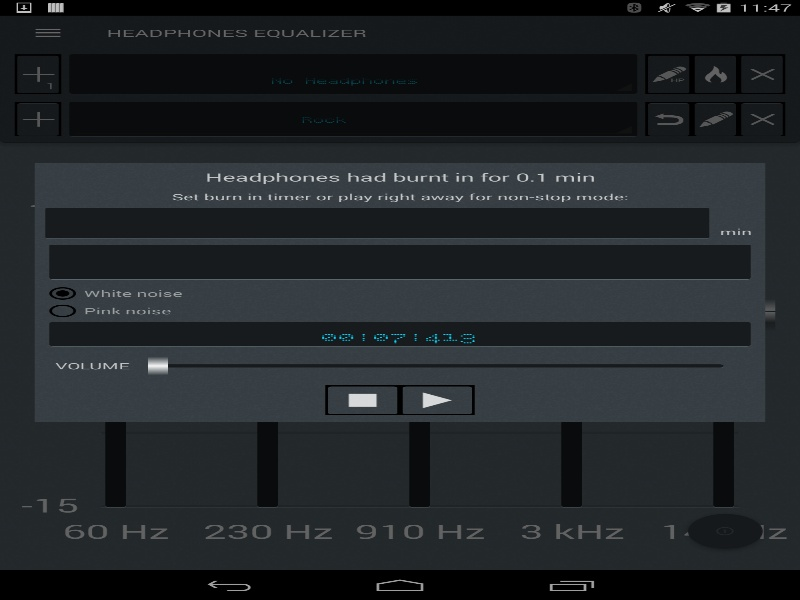Button: (325, 385, 400, 415), (400, 385, 474, 415)
Input: (45, 207, 709, 239)
